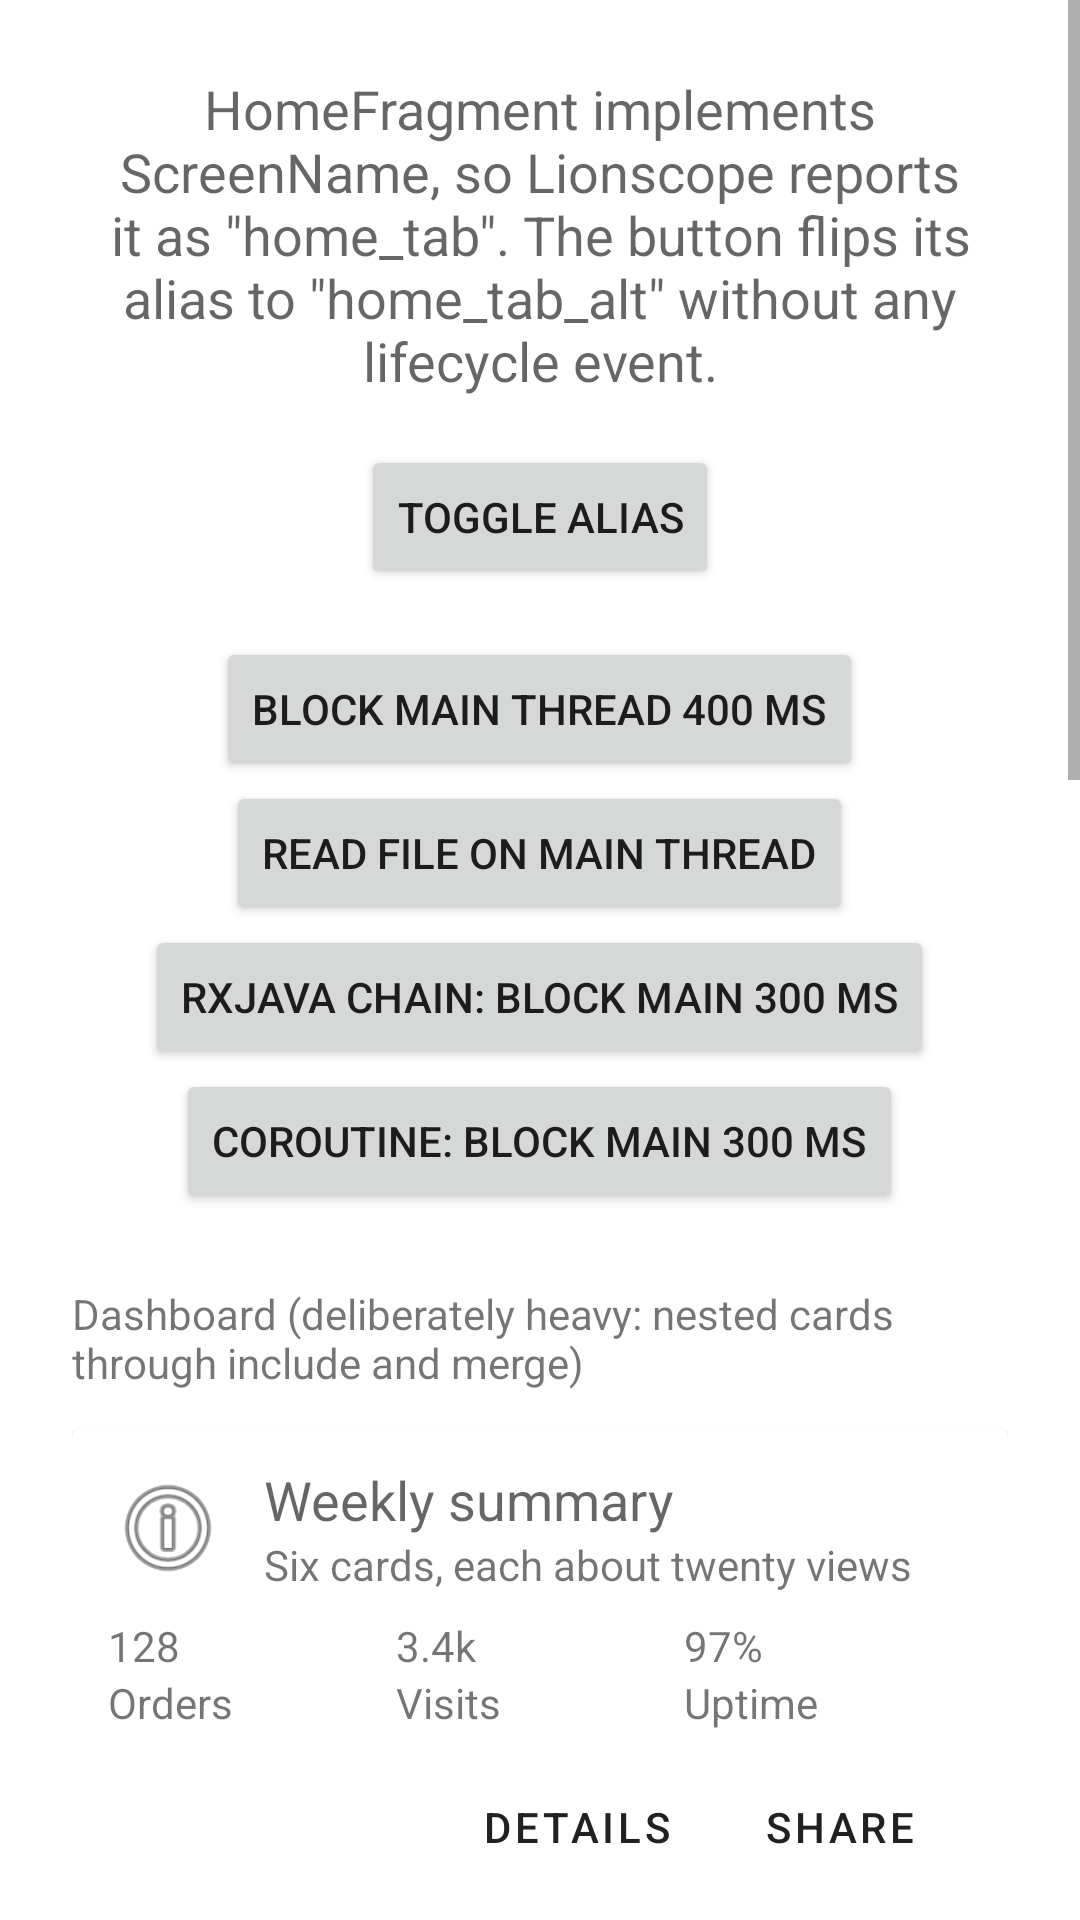

Where to tap for icons on this 1080 x 1920 app screen, as (x,y):
info details: (168,1528)
